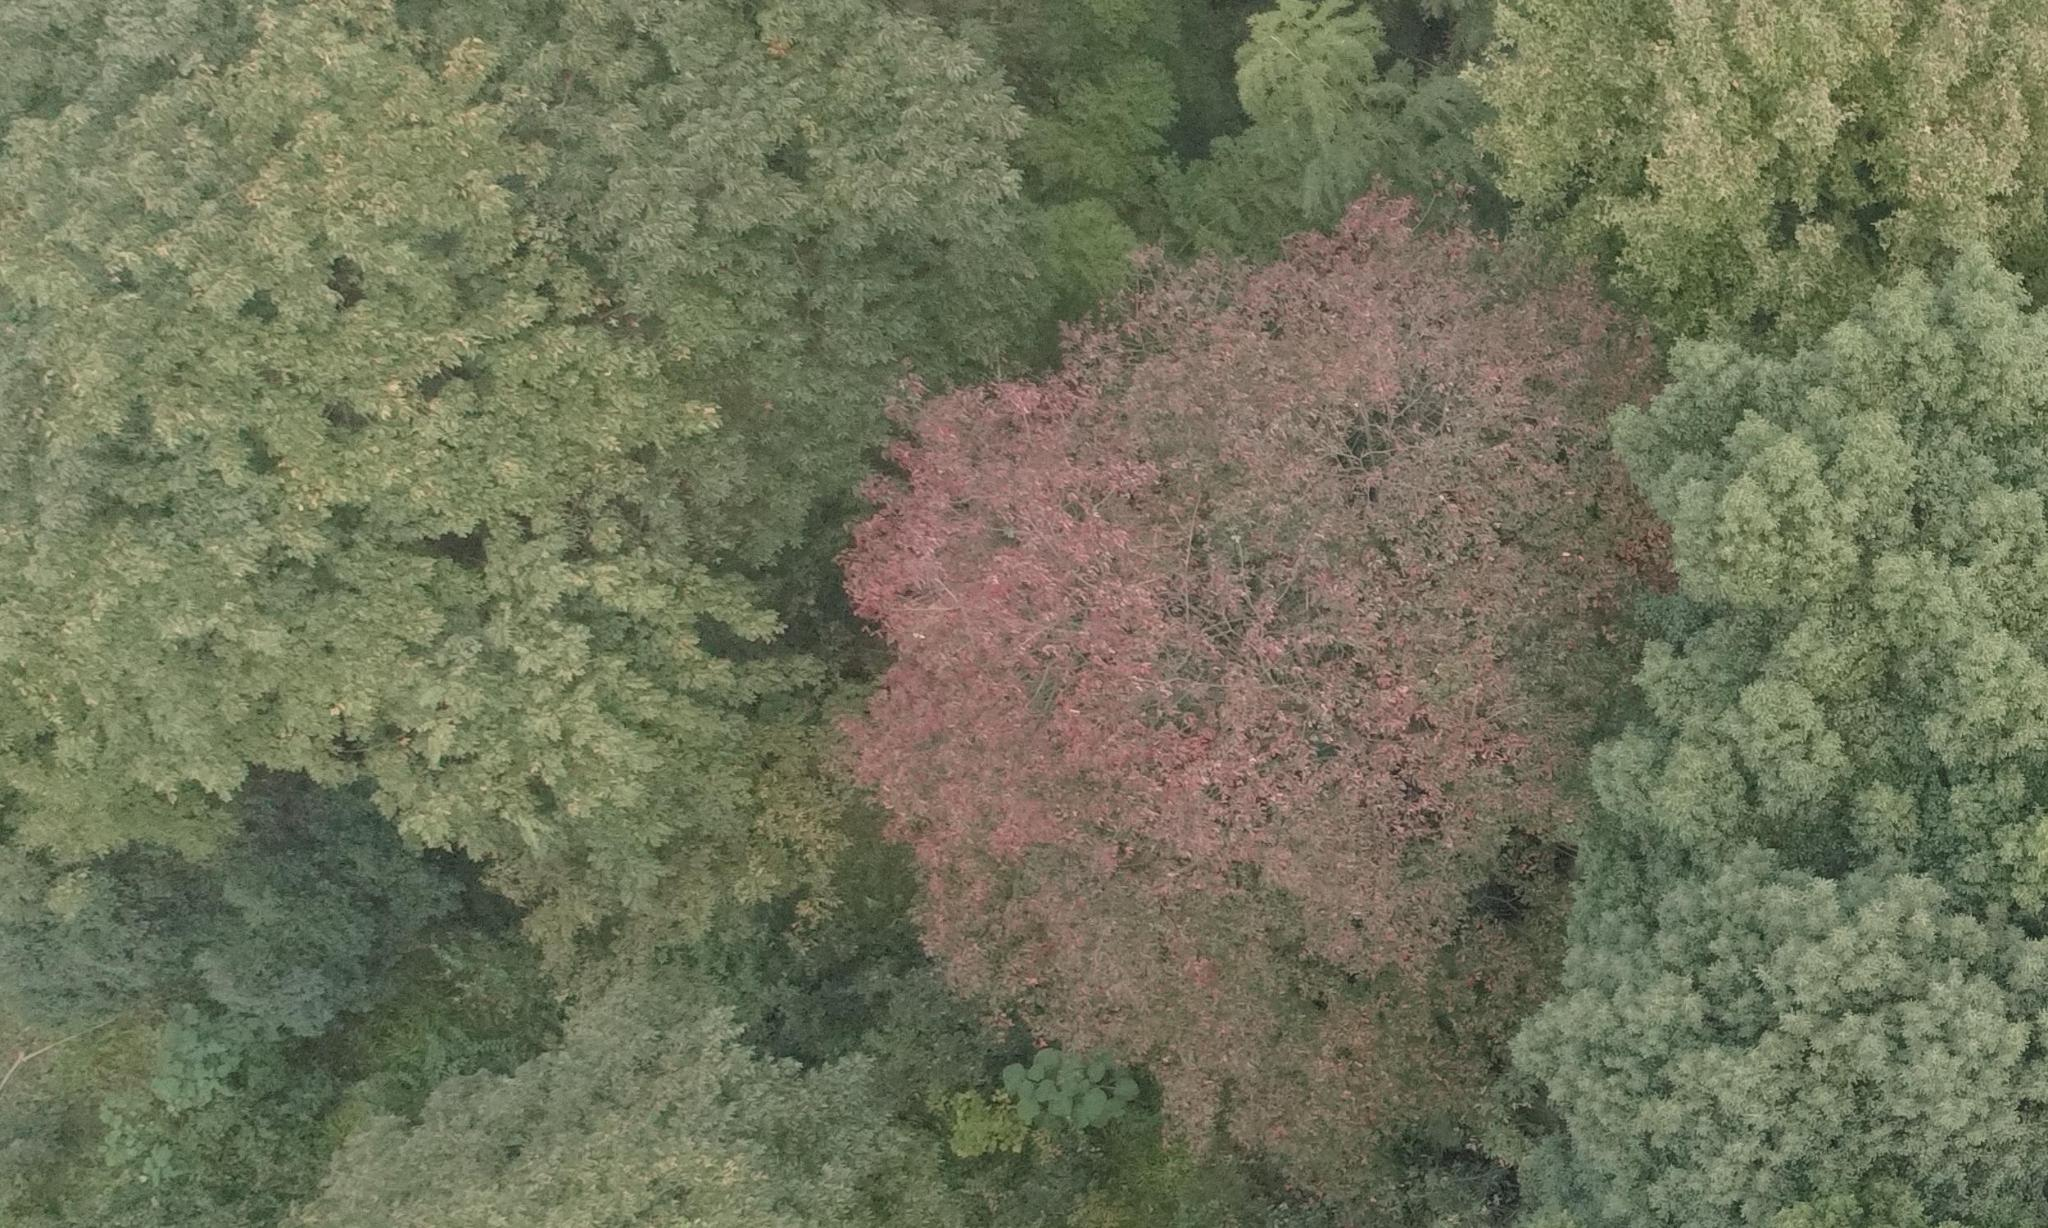heavy: (833, 211, 1592, 1164)
